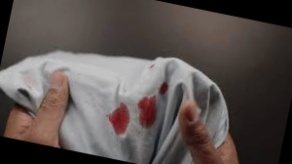blood: (104, 101, 134, 135), (133, 94, 162, 129)
